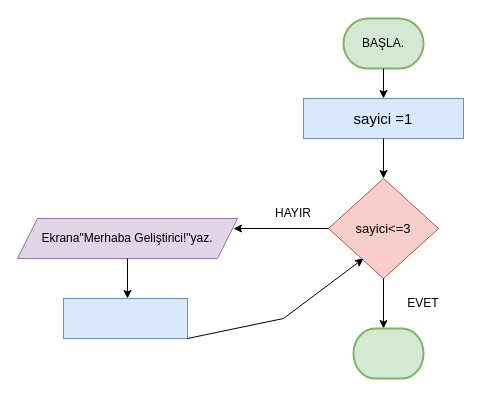
Image size: 481x396. Some labels were removed from this diagram. The shapes that lost their labels are listed below. From the top down, each one's centre as x and y in pixels, then its label:
At (x=125, y=318): "sayici = sayici + 1".
At (x=388, y=353): "DUR.".
